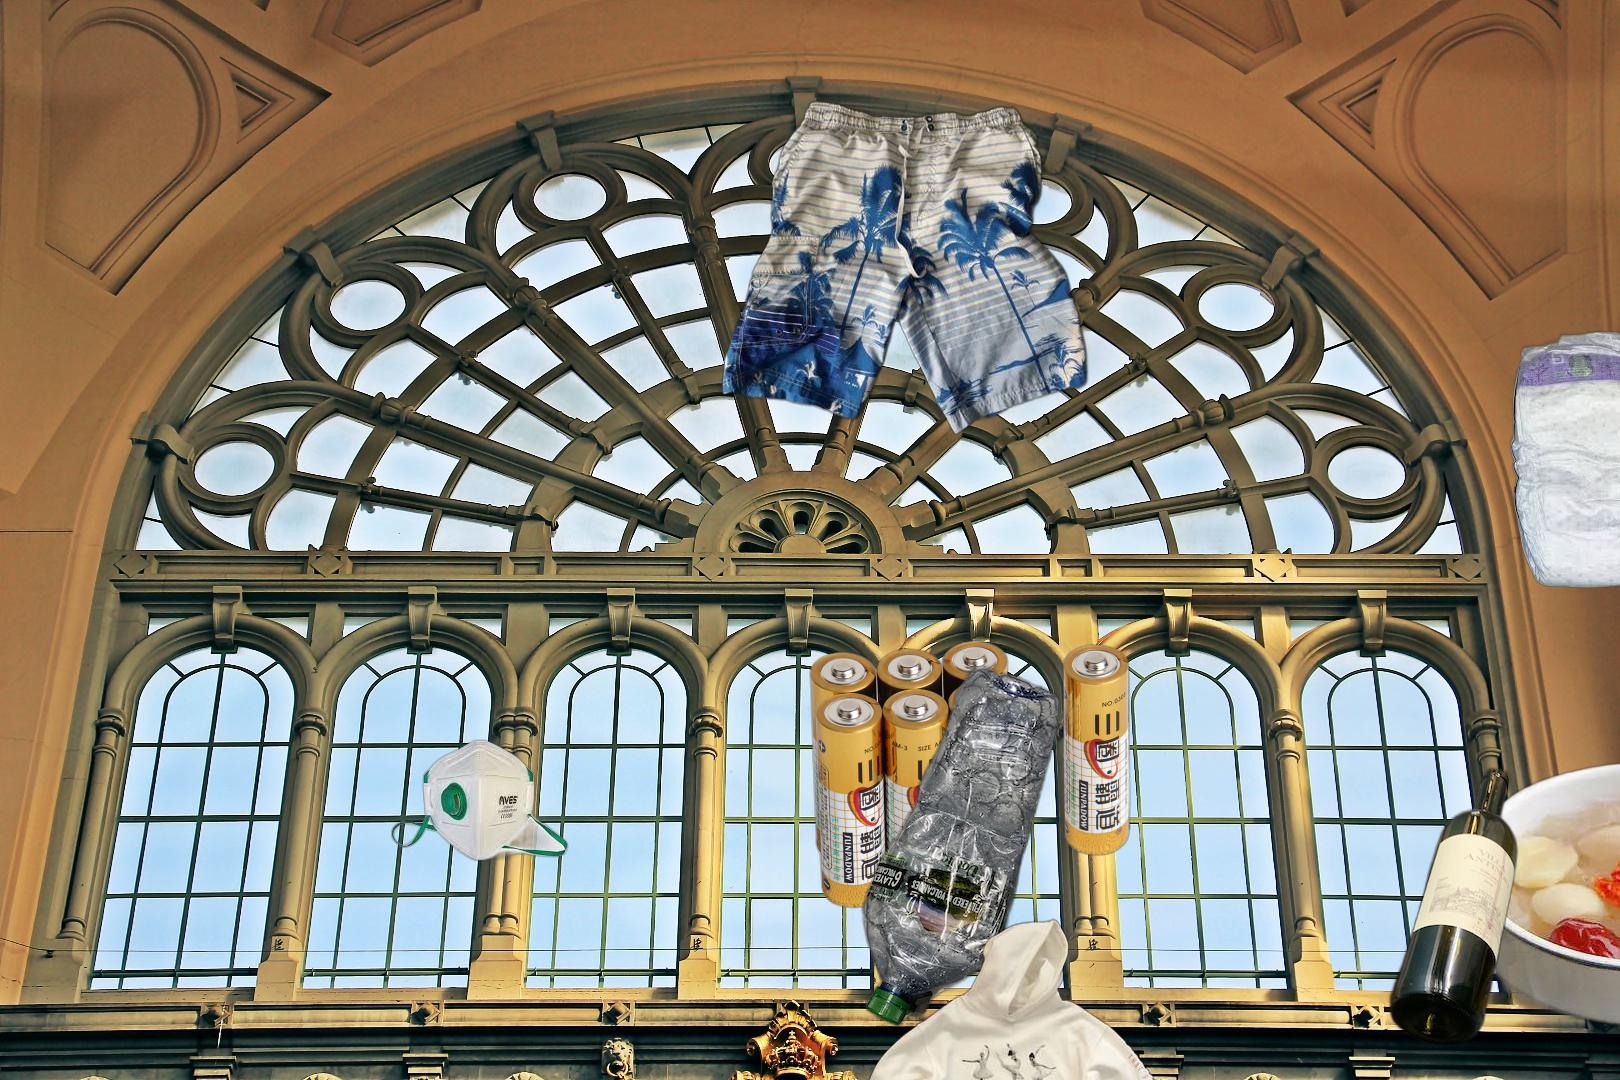battery: (808, 636, 1134, 912)
biological: (1461, 758, 1620, 1031)
clothes: (718, 96, 1092, 439), (846, 915, 1196, 1080)
glass: (1385, 762, 1522, 1051)
plastic-bottles: (858, 661, 1066, 1032)
trash: (1505, 328, 1620, 591), (389, 736, 571, 863)
